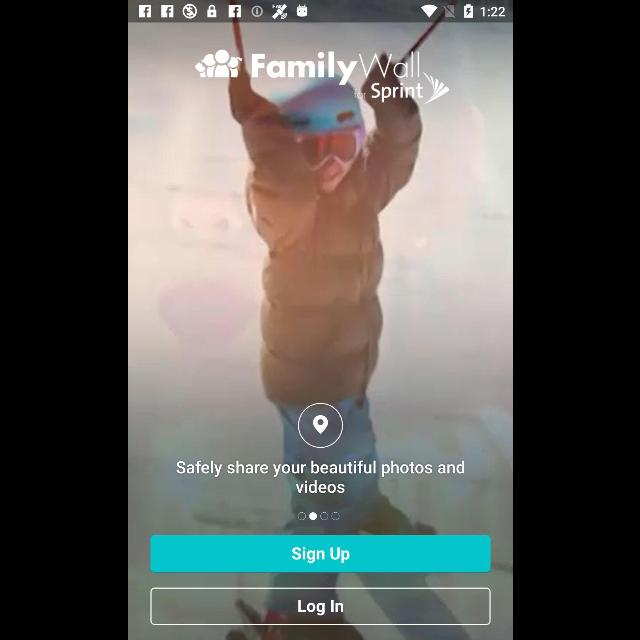backgroundimage: (128, 22, 512, 640)
icon: (297, 403, 343, 449)
image: (194, 50, 448, 104)
pageindicator: (297, 512, 339, 520)
text: (176, 461, 464, 494)
textbutton: (150, 587, 490, 625), (150, 536, 490, 572)
uppertaskbar: (128, 1, 512, 23)
